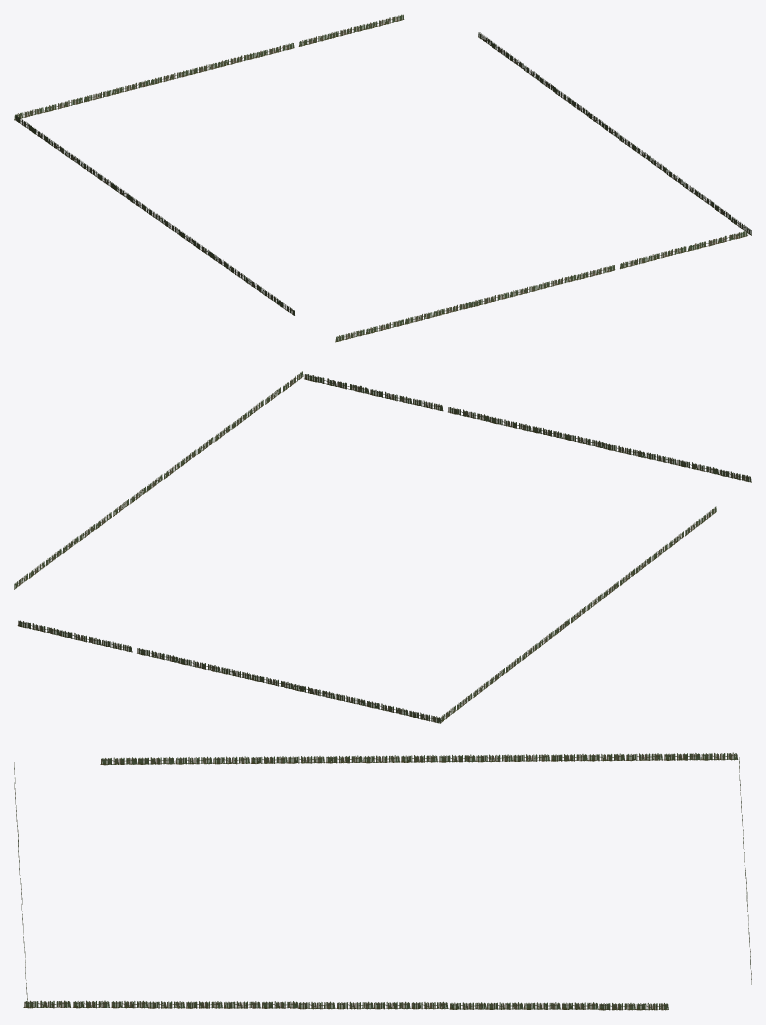
The model's file is Limite.fbx.
The picture shows the model from 3 angles, top to bottom: view 1: azimuth 30°, elevation 25°; view 2: azimuth 150°, elevation 25°; view 3: azimuth 270°, elevation 25°; orthographic projection. The views are drawn at different scales.
Parts seen in each view (by area): view 1: Cerca__8_; view 2: Cerca__8_; view 3: Cerca__8_.
Boxes of the visible parts, x1,y1,x2,y2 form: Cerca__8_: [14, 14, 751, 342]; Cerca__8_: [14, 371, 751, 723]; Cerca__8_: [14, 752, 751, 1010].
Bounding box in the file's own units: 11583 × 210 × 14443.
Materials: 1 (1 with a texture image).
